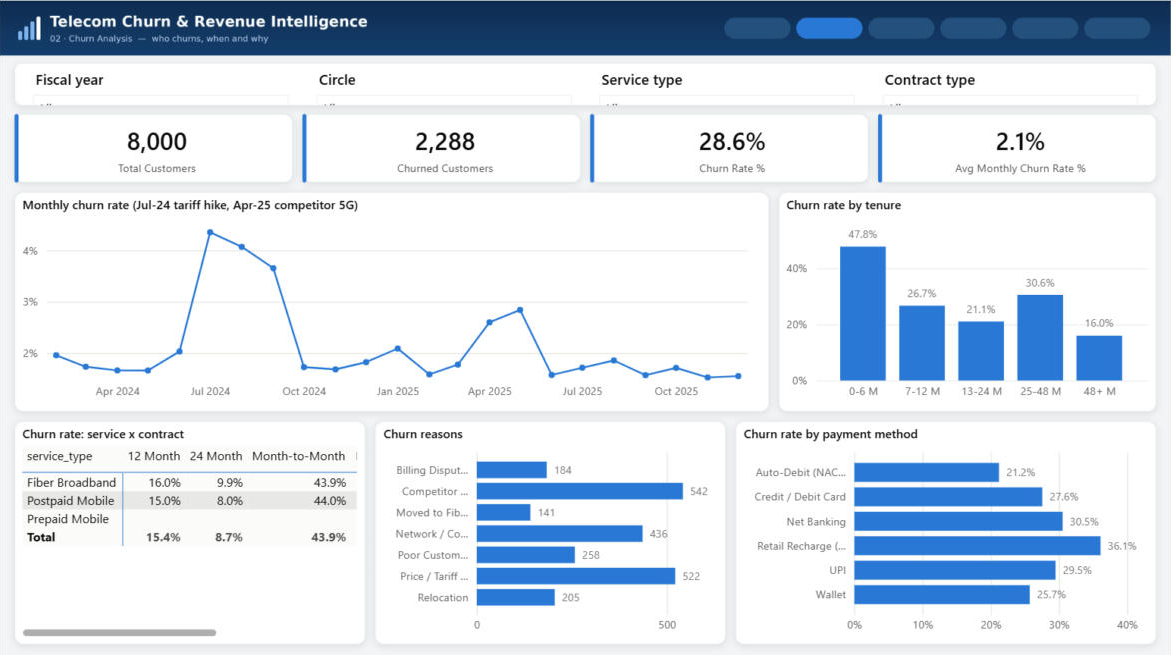

This screenshot's page, from the dashboard's own definition file:
{"tool":"powerbi","page":{"name":"Churn Analysis","canvas":[1280,720],"ordinal":1},"visuals":[{"type":"slicer","fields":{"Values":["dim_date.fiscal_year"]},"box":[26,69,299.5,44.7],"z":0},{"type":"slicer","fields":{"Values":["dim_geography.circle"]},"box":[335.5,69,299.5,44.7],"z":1000},{"type":"slicer","fields":{"Values":["dim_customer.service_type"]},"box":[645,69,299.5,44.7],"z":2000},{"type":"slicer","fields":{"Values":["dim_customer.contract_type"]},"box":[954.5,69,299.5,44.7],"z":3000},{"type":"card","fields":{"Values":["_Measures.Total Customers"]},"box":[28,128,288,66.7],"z":4000},{"type":"card","fields":{"Values":["_Measures.Churned Customers"]},"box":[342.7,128,288,66.7],"z":5000},{"type":"card","fields":{"Values":["_Measures.Churn Rate %"]},"box":[657.3,128,288,66.7],"z":6000},{"type":"card","fields":{"Values":["_Measures.Avg Monthly Churn Rate %"]},"box":[972,128,288,66.7],"z":7000},{"type":"lineChart","title":"Monthly churn rate (Jul-24 tariff hike, Apr-25 competitor 5G)","fields":{"Category":["dim_date.month_start"],"Y":["_Measures.Monthly Churn Rate %"]},"box":[20,213.3,816.7,232],"z":8000},{"type":"clusteredColumnChart","title":"Churn rate by tenure","fields":{"Category":["dim_customer.tenure_band"],"Y":["_Measures.Churn Rate %"]},"box":[855.3,213.3,404.7,232],"z":9000},{"type":"pivotTable","title":"Churn rate: service x contract","fields":{"Columns":["dim_customer.contract_type"],"Rows":["dim_customer.service_type"],"Values":["_Measures.Churn Rate %"]},"box":[20,464,375.3,236],"z":10000},{"type":"clusteredBarChart","title":"Churn reasons","fields":{"Category":["dim_customer.churn_reason"],"Y":["_Measures.Churned Customers"]},"box":[414,464,375.3,236],"z":11000},{"type":"clusteredBarChart","title":"Churn rate by payment method","fields":{"Category":["dim_customer.payment_method"],"Y":["_Measures.Churn Rate %"]},"box":[808,464,452,236],"z":12000}]}

Visuals, with their boxes in screenshot pixels (x1, y1, x2, y2), scaled from the page's 1280x720 canvas onto the 1171x655 screenshot:
slicer - dim_date.fiscal_year: left=24, top=63, right=298, bottom=103
slicer - dim_geography.circle: left=307, top=63, right=581, bottom=103
slicer - dim_customer.service_type: left=590, top=63, right=864, bottom=103
slicer - dim_customer.contract_type: left=873, top=63, right=1147, bottom=103
card - _Measures.Total Customers: left=26, top=116, right=289, bottom=177
card - _Measures.Churned Customers: left=314, top=116, right=577, bottom=177
card - _Measures.Churn Rate %: left=601, top=116, right=865, bottom=177
card - _Measures.Avg Monthly Churn Rate %: left=889, top=116, right=1153, bottom=177
"Monthly churn rate (Jul-24 tariff hike, Apr-25 competitor 5G)" lineChart: left=18, top=194, right=765, bottom=405
"Churn rate by tenure" clusteredColumnChart: left=782, top=194, right=1153, bottom=405
"Churn rate: service x contract" pivotTable: left=18, top=422, right=362, bottom=637
"Churn reasons" clusteredBarChart: left=379, top=422, right=722, bottom=637
"Churn rate by payment method" clusteredBarChart: left=739, top=422, right=1153, bottom=637
